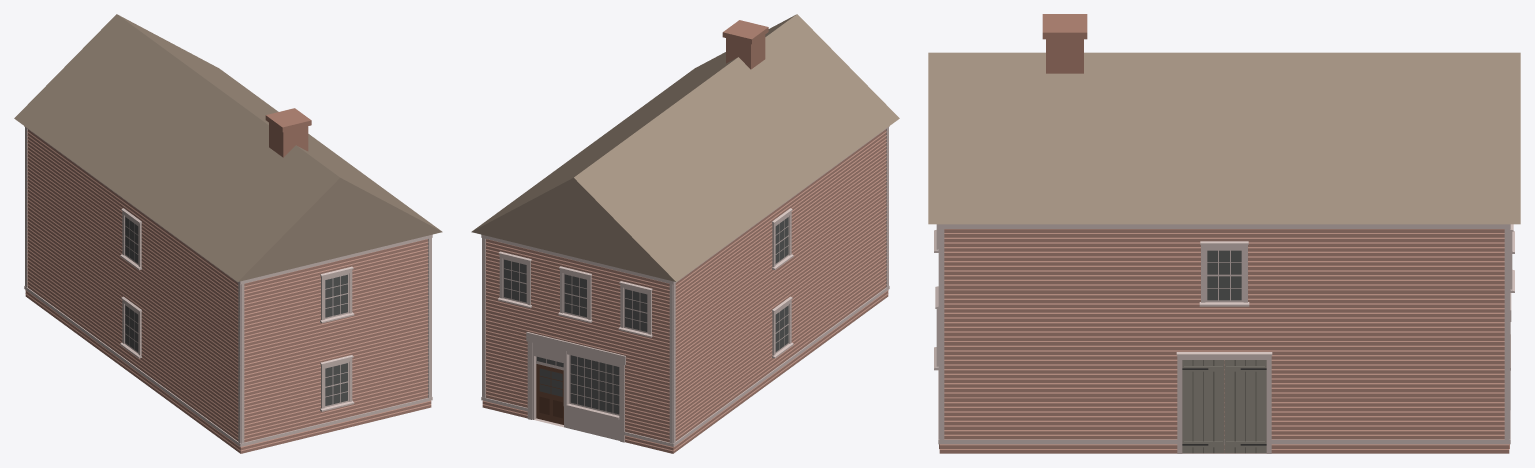
File: recon_1835_south_c3_015__inferred_1835.glb
The picture shows the model from 3 angles, left to right: view 1: azimuth 30°, elevation 25°; view 2: azimuth 150°, elevation 25°; view 3: azimuth 270°, elevation 25°; orthographic projection. The views are drawn at different scales.
Parts seen in each view (by area): view 1: recon_1835_south_c3_015__inferred_1835; view 2: recon_1835_south_c3_015__inferred_1835; view 3: recon_1835_south_c3_015__inferred_1835.
Boxes of the visible parts, bbox=[...] form: recon_1835_south_c3_015__inferred_1835: bbox=[14, 14, 442, 453]; recon_1835_south_c3_015__inferred_1835: bbox=[471, 14, 899, 453]; recon_1835_south_c3_015__inferred_1835: bbox=[928, 14, 1520, 453].
Bounding box in the file's own units: 6.91 × 8.95 × 13.03.
